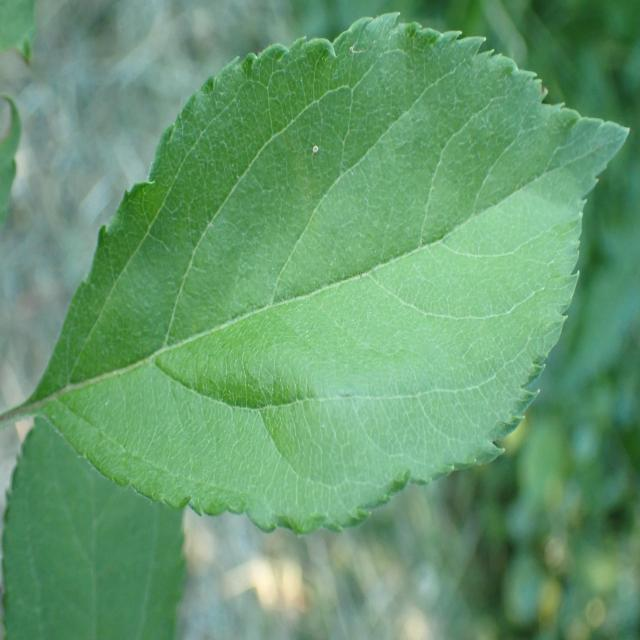healthy: (33, 12, 632, 536), (1, 419, 188, 640)
